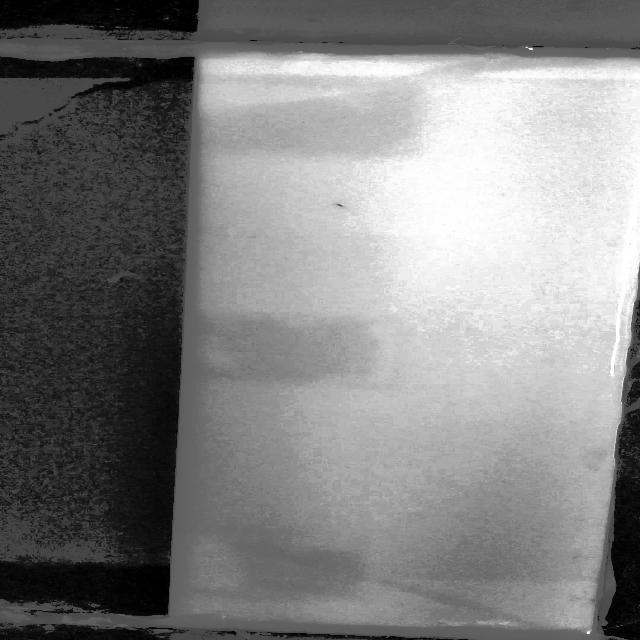shrimp: (329, 202, 352, 208)
